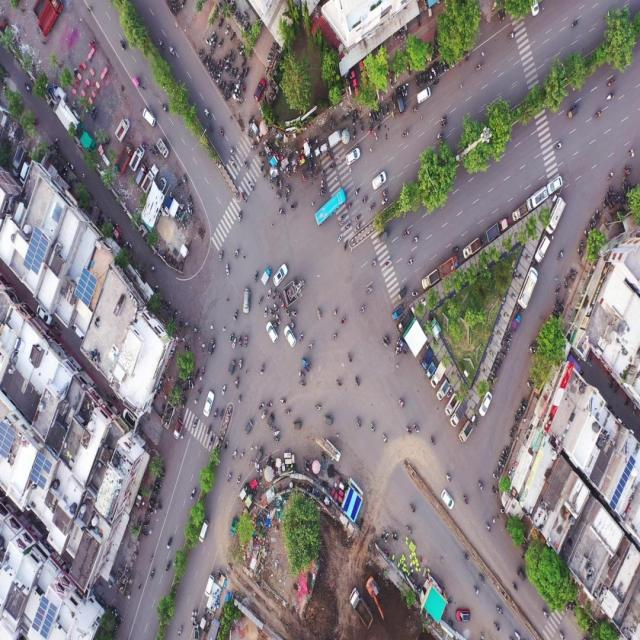3W: (566, 104, 580, 123), (262, 265, 273, 286), (515, 565, 527, 583), (208, 335, 216, 359), (377, 231, 389, 247), (391, 306, 404, 320), (397, 285, 407, 302), (301, 357, 311, 373), (398, 337, 407, 354), (255, 446, 264, 462), (267, 412, 275, 430), (245, 419, 253, 436), (324, 413, 333, 428), (132, 76, 141, 91), (293, 420, 302, 434), (228, 359, 235, 376)
Bus: (308, 186, 353, 229)
Cars: (262, 320, 282, 347), (139, 106, 158, 134), (536, 234, 550, 263), (478, 390, 494, 414), (344, 147, 361, 169), (547, 173, 564, 195), (282, 325, 296, 351), (371, 167, 387, 189), (199, 515, 210, 545), (274, 263, 288, 286), (254, 78, 268, 100), (203, 389, 213, 418), (441, 487, 454, 509), (203, 571, 214, 596), (395, 87, 405, 113), (455, 608, 471, 624), (416, 88, 431, 105), (242, 287, 251, 315)
LCV: (518, 268, 539, 306), (547, 197, 565, 234), (526, 186, 548, 212), (142, 162, 158, 195), (452, 400, 468, 430), (439, 254, 457, 279), (324, 440, 342, 463), (130, 143, 145, 170), (432, 362, 447, 388), (463, 237, 479, 260), (459, 420, 473, 445), (422, 268, 438, 289), (445, 395, 460, 417), (116, 118, 130, 140), (327, 129, 343, 148), (156, 135, 169, 158), (513, 203, 528, 221), (421, 349, 433, 369), (173, 420, 184, 439), (511, 314, 521, 331), (230, 518, 238, 538), (425, 364, 435, 378)
M2W: (605, 164, 617, 183), (554, 138, 564, 152), (605, 91, 616, 103), (593, 108, 603, 121), (570, 18, 580, 31), (368, 422, 377, 436), (148, 567, 157, 581), (506, 29, 516, 41), (478, 573, 487, 586), (407, 502, 416, 515), (496, 605, 505, 618), (492, 620, 501, 633), (557, 247, 566, 260), (472, 585, 480, 599), (513, 629, 523, 640), (462, 550, 471, 562), (278, 206, 287, 218), (401, 228, 410, 240), (607, 76, 616, 88), (485, 522, 492, 537), (192, 417, 199, 432), (405, 525, 413, 538), (511, 581, 519, 594), (477, 481, 485, 494), (365, 284, 373, 297), (158, 39, 166, 52), (235, 473, 243, 486), (289, 202, 299, 212), (460, 494, 469, 505), (359, 304, 368, 315), (228, 159, 237, 170), (400, 130, 411, 139), (241, 191, 248, 205), (315, 307, 322, 321), (382, 434, 390, 446), (237, 209, 243, 225), (228, 145, 236, 157), (217, 126, 225, 138), (118, 41, 126, 53), (541, 608, 548, 621), (233, 247, 240, 260), (168, 44, 175, 57), (213, 407, 220, 420), (220, 384, 227, 397), (234, 376, 241, 389), (228, 332, 235, 345), (218, 36, 225, 49), (347, 351, 353, 366), (167, 535, 173, 550), (219, 407, 225, 422), (256, 402, 265, 412), (260, 362, 266, 377), (225, 261, 230, 279), (371, 259, 380, 269), (411, 236, 420, 246), (380, 188, 389, 198), (353, 186, 362, 196), (247, 181, 255, 192), (204, 108, 212, 119), (445, 473, 452, 485), (429, 436, 436, 448), (414, 422, 421, 434), (405, 425, 412, 437), (356, 416, 362, 430), (353, 374, 360, 386), (332, 306, 339, 318), (254, 270, 260, 284), (191, 486, 197, 500), (238, 449, 245, 461), (232, 448, 238, 462), (261, 409, 268, 421), (233, 309, 239, 323), (343, 239, 349, 253), (475, 62, 482, 74), (181, 175, 188, 187), (320, 451, 327, 463), (334, 379, 343, 388), (315, 403, 324, 412), (360, 195, 369, 204), (438, 120, 447, 129), (451, 245, 460, 254), (266, 401, 276, 409), (243, 333, 248, 349), (355, 223, 363, 233), (398, 397, 404, 410), (272, 287, 278, 300), (219, 249, 225, 262), (162, 102, 168, 115), (479, 232, 485, 245), (72, 67, 78, 80), (383, 258, 390, 269), (336, 232, 343, 243), (434, 132, 445, 139), (308, 340, 314, 352), (258, 296, 264, 308), (177, 624, 183, 636), (227, 471, 233, 483), (224, 440, 230, 452), (279, 397, 287, 406), (284, 408, 293, 416), (439, 113, 447, 122), (502, 344, 510, 353), (555, 284, 561, 296), (508, 431, 514, 443), (198, 48, 204, 60), (307, 161, 313, 173), (340, 316, 347, 326), (332, 332, 339, 342), (207, 124, 214, 134), (208, 435, 215, 445), (207, 424, 214, 434), (238, 357, 243, 371), (273, 428, 280, 438), (381, 198, 388, 208), (345, 221, 352, 231), (517, 305, 524, 315), (275, 313, 281, 324), (237, 393, 243, 404), (447, 387, 453, 398), (224, 24, 230, 35), (299, 332, 304, 345), (166, 560, 171, 573), (238, 335, 243, 348), (385, 102, 390, 115), (389, 77, 394, 90), (241, 82, 246, 95), (298, 380, 306, 388), (298, 371, 307, 378), (407, 257, 414, 266), (353, 214, 360, 223), (346, 201, 353, 210), (339, 213, 346, 222), (329, 162, 336, 171), (412, 289, 419, 298), (432, 79, 439, 88), (532, 258, 539, 267), (449, 618, 456, 627), (274, 303, 280, 313), (267, 288, 272, 300), (243, 161, 249, 171), (403, 85, 408, 97), (217, 19, 223, 29), (239, 44, 245, 54), (234, 66, 239, 78), (202, 54, 207, 66), (213, 35, 218, 47), (89, 105, 95, 115), (247, 115, 253, 125), (263, 170, 269, 180), (287, 181, 291, 196), (232, 337, 236, 351), (493, 362, 501, 369), (142, 521, 150, 528), (263, 306, 268, 317), (414, 76, 419, 87), (230, 31, 235, 42), (206, 56, 211, 67), (270, 309, 276, 318), (291, 308, 297, 317), (273, 320, 279, 329), (319, 188, 325, 197), (320, 169, 326, 178), (553, 297, 559, 306), (551, 310, 560, 316), (148, 147, 154, 156), (222, 54, 228, 63), (215, 73, 221, 82), (225, 93, 231, 102), (354, 110, 358, 123), (443, 60, 447, 73), (501, 10, 506, 20), (210, 44, 215, 54), (244, 68, 249, 78), (240, 69, 245, 79), (221, 82, 226, 92), (226, 80, 231, 90), (492, 367, 499, 374), (492, 473, 499, 480), (272, 437, 279, 444), (140, 530, 147, 537), (370, 202, 376, 210), (351, 114, 355, 126), (497, 11, 501, 23), (527, 381, 533, 389), (521, 402, 527, 410), (513, 417, 519, 425), (564, 275, 568, 287), (217, 59, 221, 71), (93, 110, 97, 122), (260, 160, 264, 172), (279, 178, 283, 190), (284, 192, 288, 204), (382, 339, 387, 348), (352, 128, 356, 139), (360, 122, 364, 133), (381, 107, 385, 118), (419, 74, 423, 85), (196, 369, 200, 380), (154, 145, 158, 156), (507, 330, 513, 337), (500, 351, 506, 358), (496, 357, 502, 364), (492, 489, 498, 496), (496, 468, 502, 475), (499, 457, 506, 463), (570, 269, 576, 276), (568, 275, 574, 282), (147, 509, 153, 516), (153, 489, 159, 496), (147, 503, 154, 509), (206, 39, 212, 46), (426, 74, 430, 84), (436, 65, 440, 75), (516, 411, 520, 421), (381, 530, 385, 540), (211, 31, 215, 41), (231, 55, 235, 65), (229, 49, 233, 59), (220, 63, 224, 73), (218, 80, 222, 90), (377, 120, 380, 132), (378, 104, 381, 116), (423, 73, 426, 85), (242, 59, 246, 68), (230, 68, 234, 77), (384, 336, 389, 343), (497, 462, 504, 467), (390, 93, 393, 104), (374, 113, 377, 123), (441, 64, 444, 74), (505, 340, 511, 345), (505, 337, 512, 341), (375, 110, 378, 119), (385, 533, 388, 542), (511, 427, 516, 432), (502, 450, 508, 454)
Truck: (350, 588, 373, 630), (37, 1, 63, 33), (114, 141, 133, 174)
